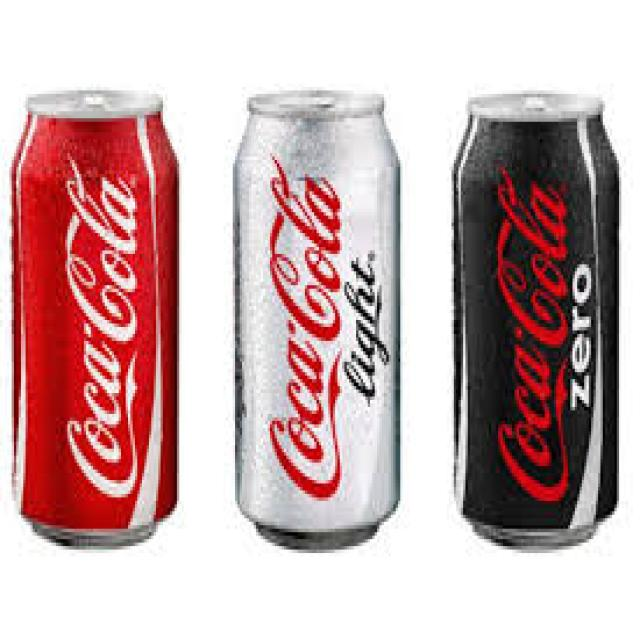Coca-Cola: (7, 80, 188, 556)
